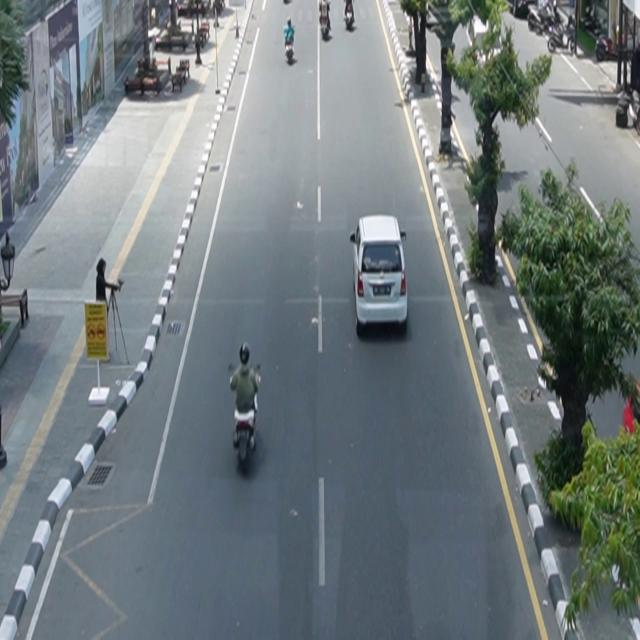car: (350, 214, 409, 334)
